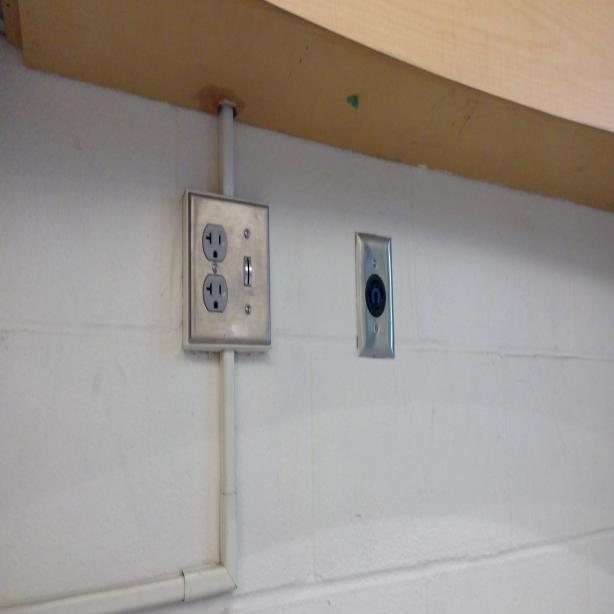typeb: (202, 222, 227, 264), (203, 274, 227, 311)
